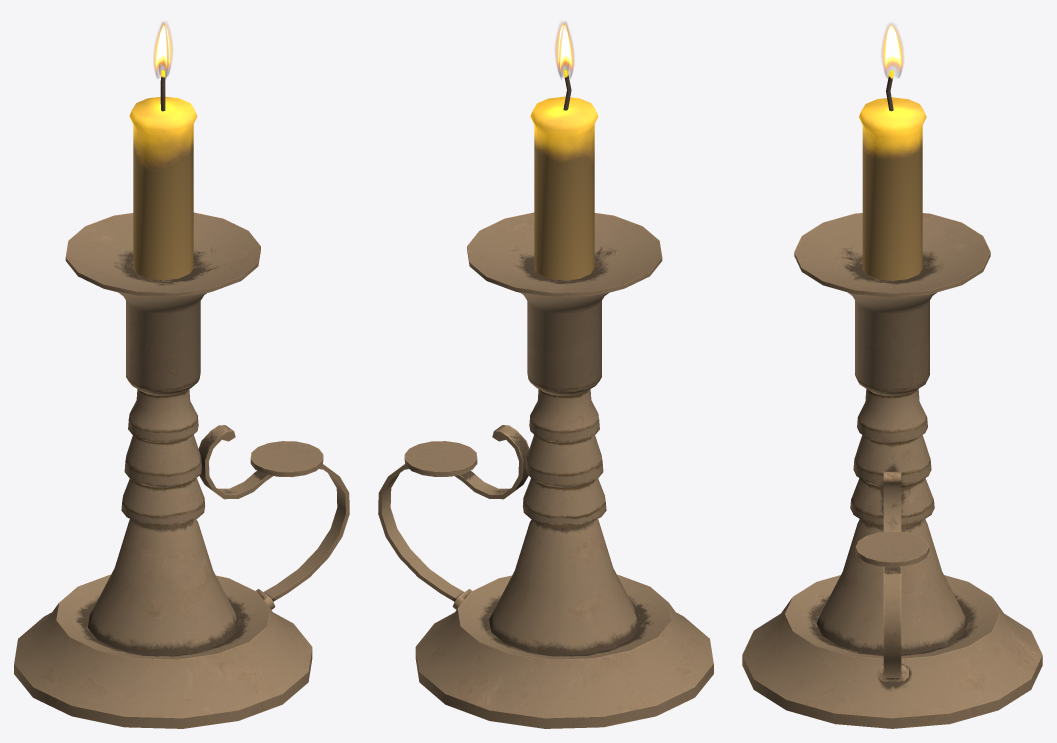
File: candle_holder.glb
3 views of the same model, side by side, from view 1: azimuth 30°, elevation 25°; view 2: azimuth 150°, elevation 25°; view 3: azimuth 270°, elevation 25° (orthographic).
Parts seen in each view (by area): view 1: Cylinder001, Cylinder003, Cylinder002, Plane001; view 2: Cylinder001, Cylinder003, Cylinder002, Plane001; view 3: Cylinder001, Cylinder003, Cylinder002, Plane002.
Boxes of the visible parts, bbox=[...] form: Cylinder001: bbox=[14, 212, 312, 728]; Cylinder003: bbox=[129, 96, 197, 280]; Cylinder002: bbox=[198, 425, 349, 609]; Plane001: bbox=[154, 23, 172, 78]; Cylinder001: bbox=[415, 212, 713, 728]; Cylinder003: bbox=[530, 96, 598, 280]; Cylinder002: bbox=[378, 425, 529, 609]; Plane001: bbox=[555, 23, 573, 78]; Cylinder001: bbox=[742, 213, 1042, 728]; Cylinder003: bbox=[859, 97, 926, 280]; Cylinder002: bbox=[855, 471, 929, 680]; Plane002: bbox=[882, 24, 903, 77].
Bounding box in the file's own units: 94.85 × 187 × 79.11.
Materials: 3 (3 with a texture image).
